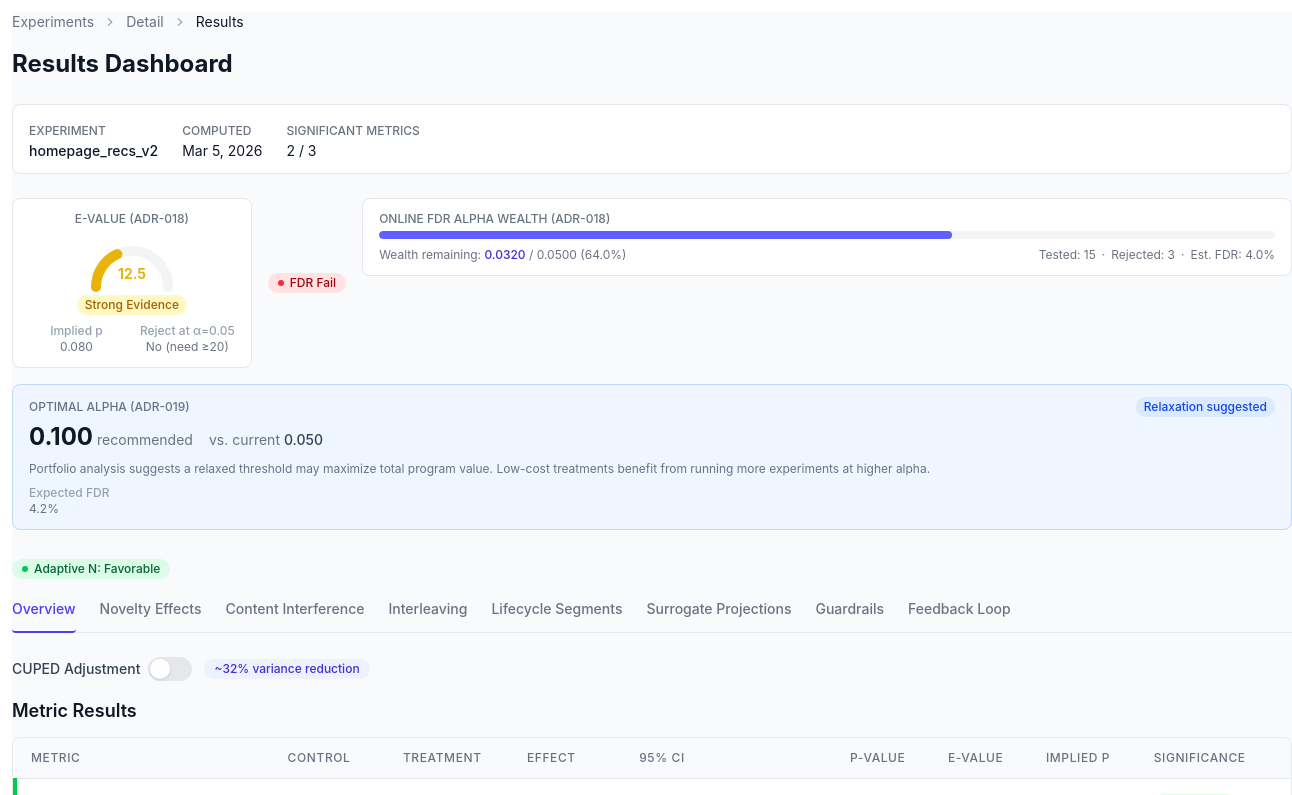
Analysis Tabs - Tab Navigation › switches to Novelty tab when clicked
The width and height of the screenshot is (1292, 795).
Click the tab "Novelty Effects" at coordinates (150, 614), box [100,595,202,633]
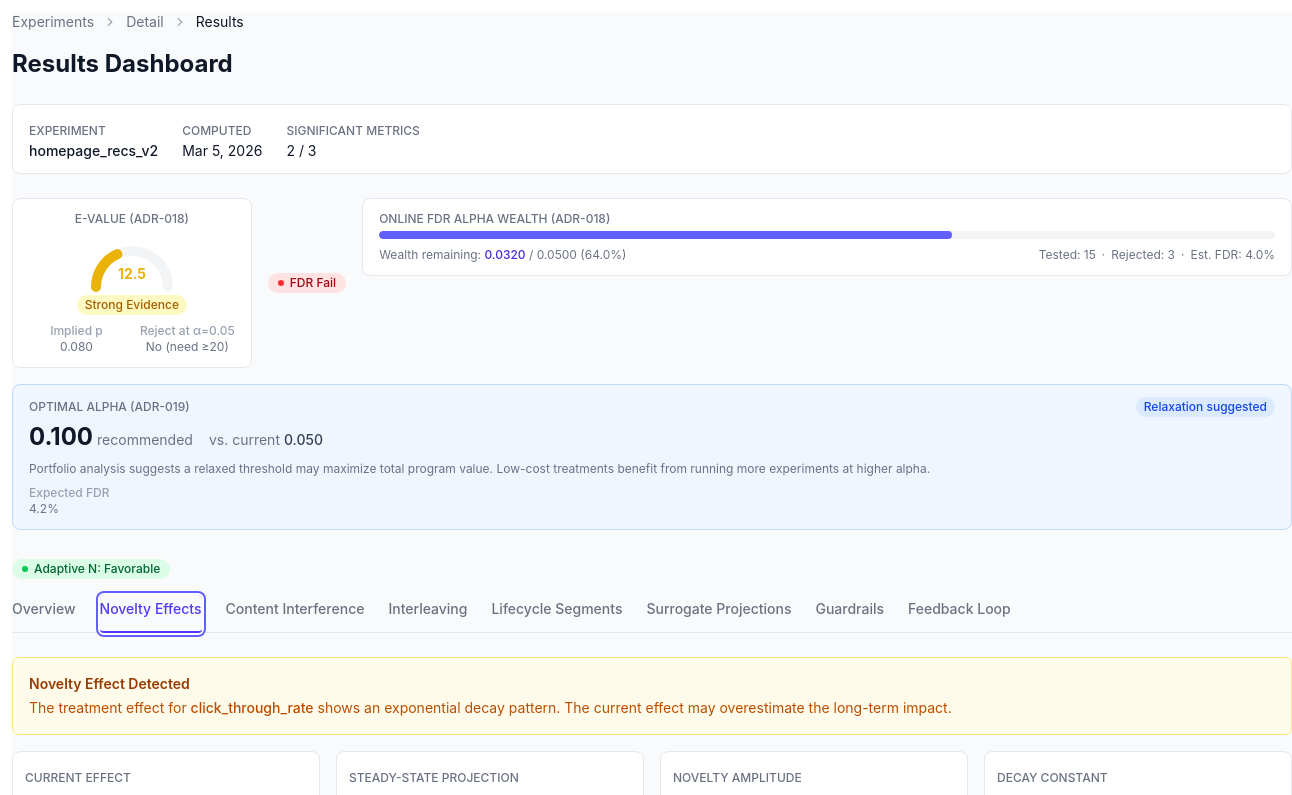
Expected: the heading "Novelty Effect Detected" is shown, [29,675,190,692]
